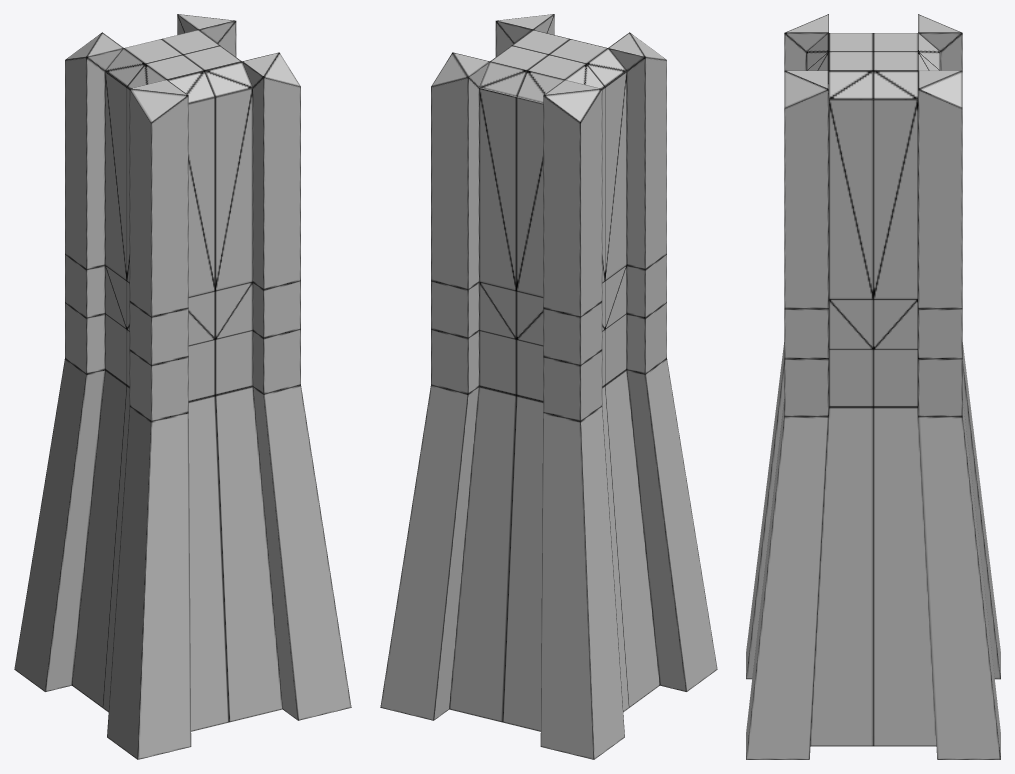
File: building_02.obj
3 renders of one model, left to right at view 1: azimuth 30°, elevation 25°; view 2: azimuth 150°, elevation 25°; view 3: azimuth 270°, elevation 25°, orthographic. The views are drawn at different scales.
Visible parts, largest first — view 1: Cube; view 2: Cube; view 3: Cube.
Boxes of the visible parts, left/top/right/bottom form: Cube: left=14, top=14, right=351, bottom=759; Cube: left=380, top=14, right=717, bottom=759; Cube: left=746, top=14, right=1000, bottom=759.
Bounding box in the file's own units: 12 × 34 × 12.
